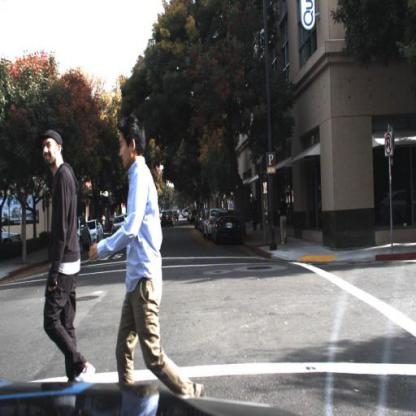car: (211, 208, 248, 252), (72, 212, 93, 260), (1, 223, 22, 252), (86, 219, 107, 248), (204, 210, 217, 242), (160, 208, 177, 231), (113, 214, 129, 235)
pedestrian: (89, 118, 205, 416), (38, 128, 98, 388), (277, 195, 292, 245), (249, 195, 261, 234), (251, 199, 262, 237)
